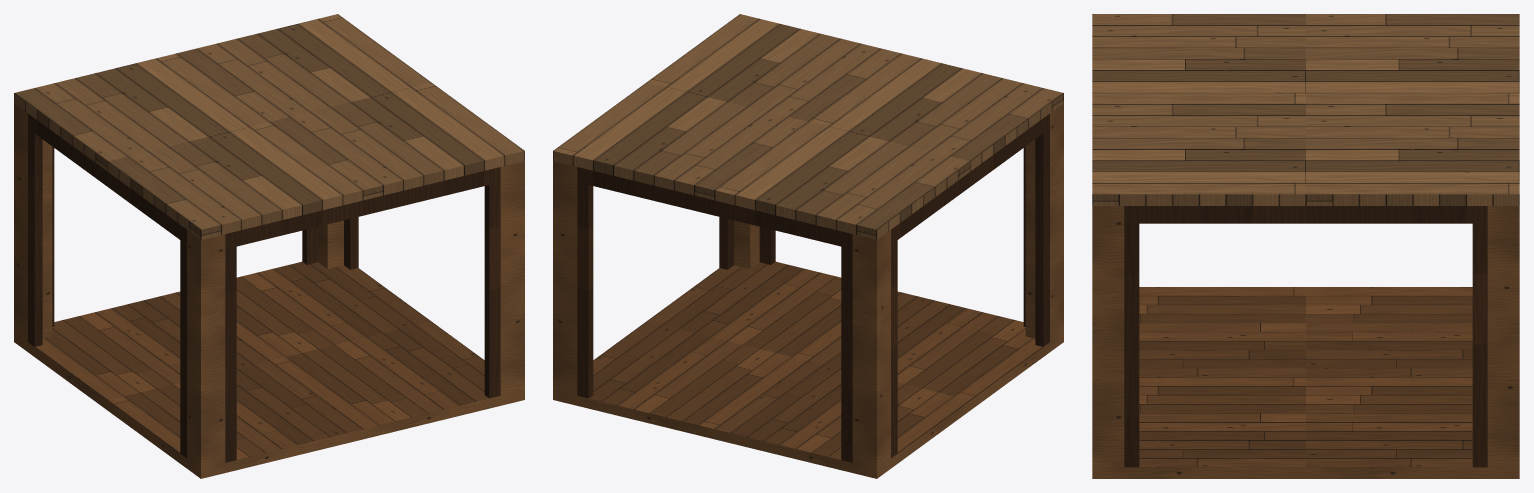
Rendered from Corridor_Cabin_Cross_NoLight.glb.
3 views of the same model, side by side, from view 1: azimuth 30°, elevation 25°; view 2: azimuth 150°, elevation 25°; view 3: azimuth 270°, elevation 25° (orthographic). The views are drawn at different scales.
Parts seen in each view (by area): view 1: Corridor_Cabin_Cross_NoLight, Corridor_Cabin_Cross_NoLight_Ceiling; view 2: Corridor_Cabin_Cross_NoLight, Corridor_Cabin_Cross_NoLight_Ceiling; view 3: Corridor_Cabin_Cross_NoLight, Corridor_Cabin_Cross_NoLight_Ceiling.
Part boxes in pixels (box(x1,y1,x2,y2)): Corridor_Cabin_Cross_NoLight: box(14, 103, 524, 478); Corridor_Cabin_Cross_NoLight_Ceiling: box(14, 14, 524, 246); Corridor_Cabin_Cross_NoLight: box(553, 103, 1063, 478); Corridor_Cabin_Cross_NoLight_Ceiling: box(553, 14, 1063, 248); Corridor_Cabin_Cross_NoLight: box(1092, 206, 1519, 478); Corridor_Cabin_Cross_NoLight_Ceiling: box(1092, 14, 1519, 223).
Size of the model in its own units: 4 by 2.94 by 4.
5 materials, 5 textured.
